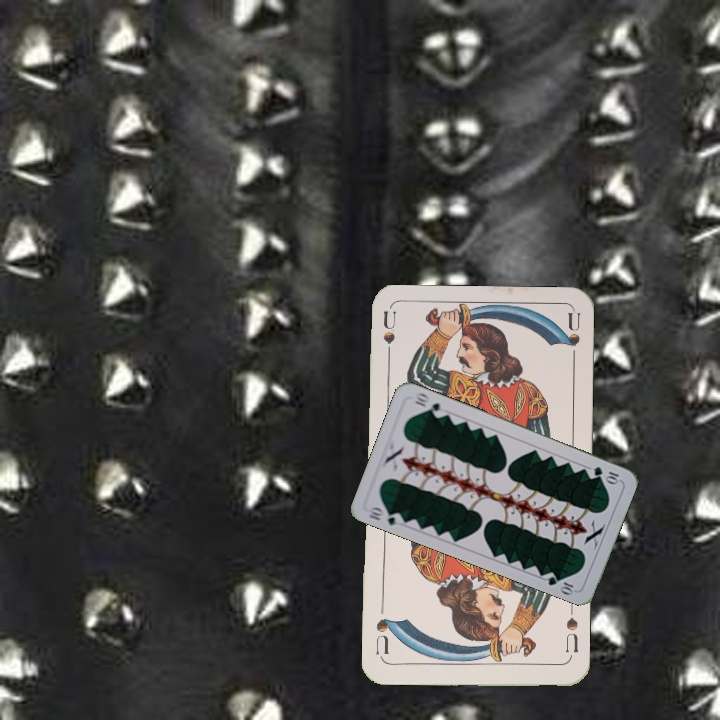G10: (364, 503, 405, 528), (589, 462, 622, 486)
SU: (561, 602, 581, 661), (379, 309, 399, 368)
